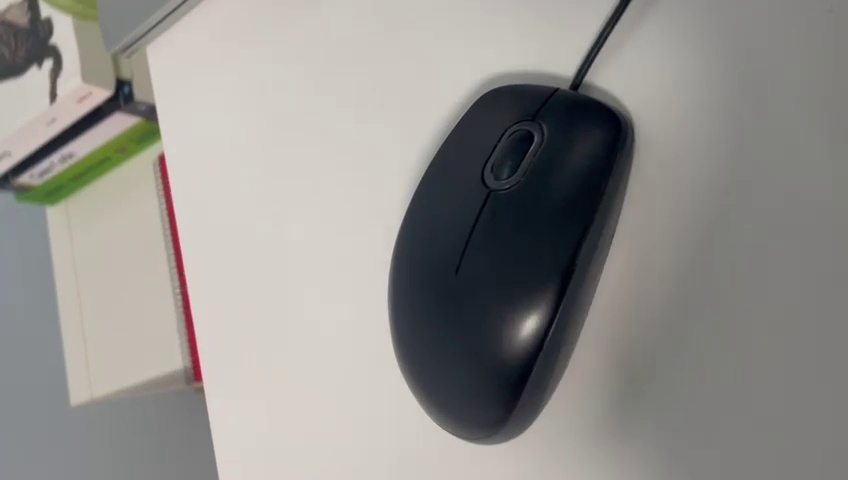objeto: (375, 55, 639, 458)
